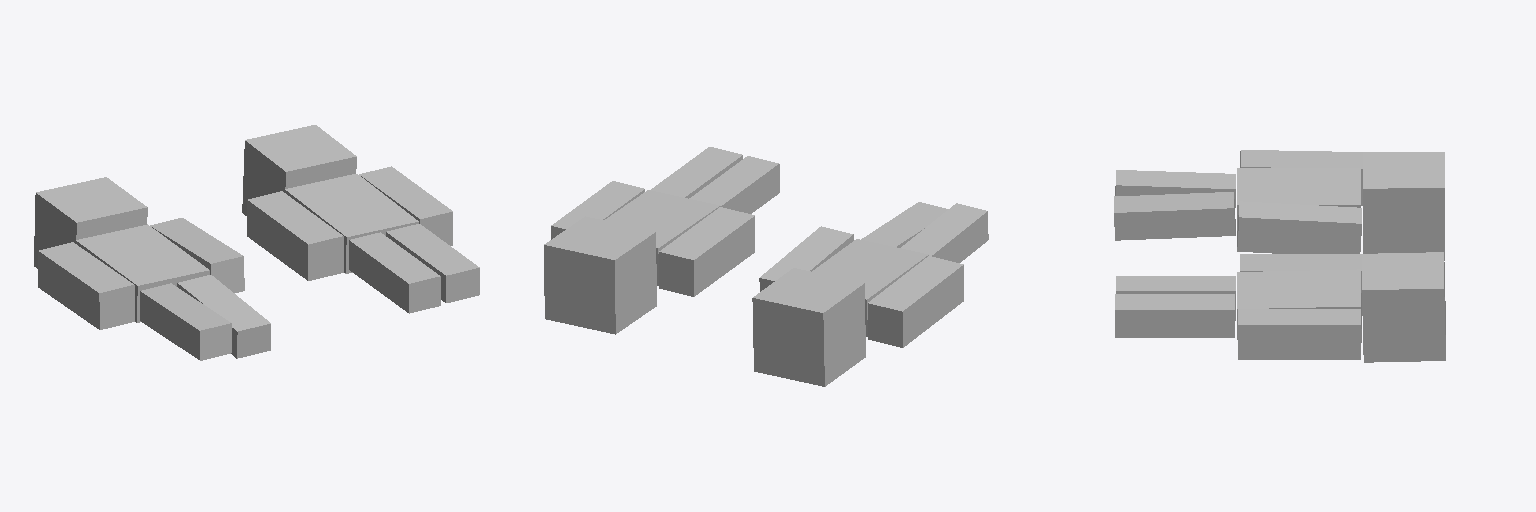
The model's file is steve_000003.obj.
The picture shows the model from 3 angles: view 1: azimuth 30°, elevation 25°; view 2: azimuth 150°, elevation 25°; view 3: azimuth 270°, elevation 25°; orthographic projection.
Parts seen in each view (by area): view 1: Cube.001_Cube.002, Cube_Cube.001; view 2: Cube_Cube.001, Cube.001_Cube.002; view 3: Cube.001_Cube.002, Cube_Cube.001.
Part boxes in pixels (bbox=[...]): Cube.001_Cube.002: bbox=[242, 125, 479, 313]; Cube_Cube.001: bbox=[34, 177, 270, 360]; Cube_Cube.001: bbox=[752, 202, 988, 386]; Cube.001_Cube.002: bbox=[544, 147, 779, 334]; Cube.001_Cube.002: bbox=[1115, 252, 1445, 362]; Cube_Cube.001: bbox=[1114, 150, 1444, 260].
Size of the model in its own units: 6.55 by 1.37 by 5.35.